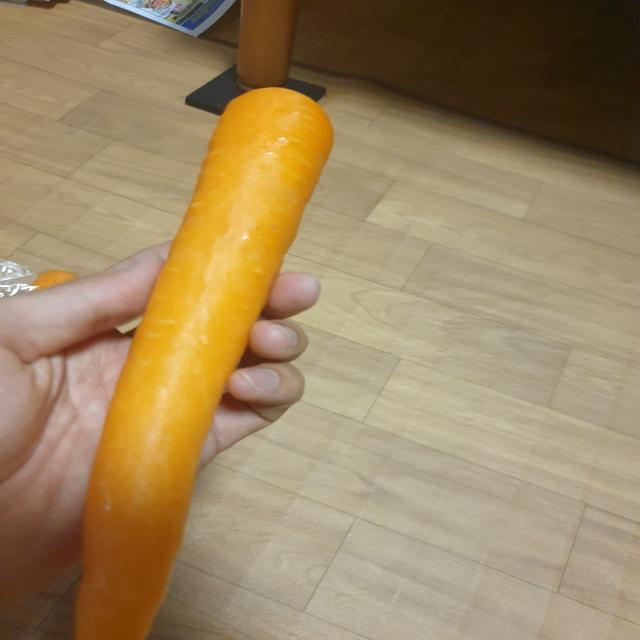Carrot: (60, 83, 343, 637)
